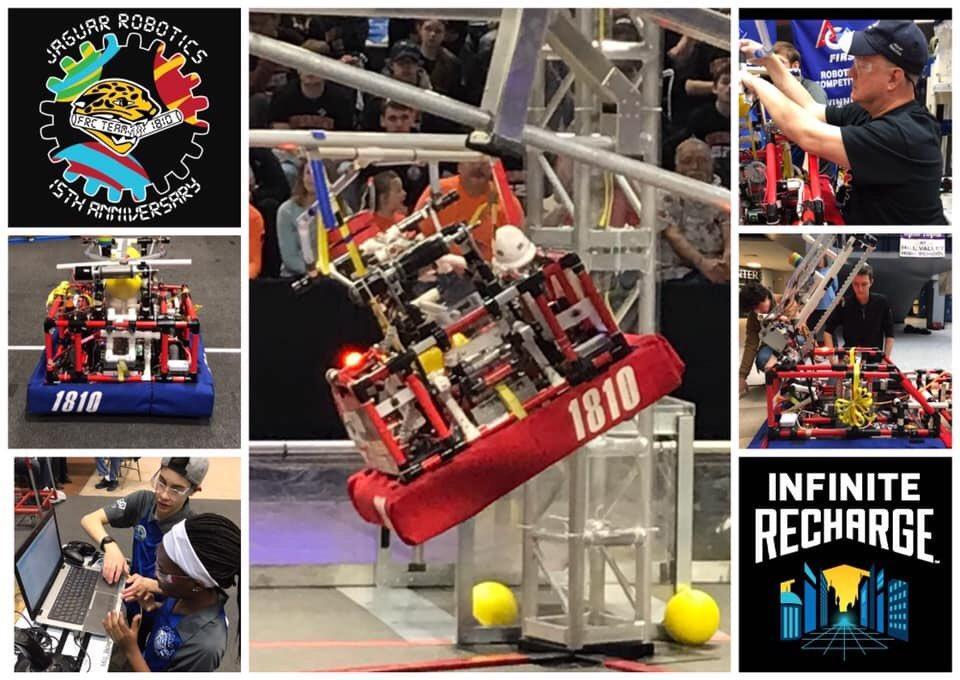robot: (294, 123, 689, 549), (750, 232, 960, 455), (25, 237, 223, 426)
